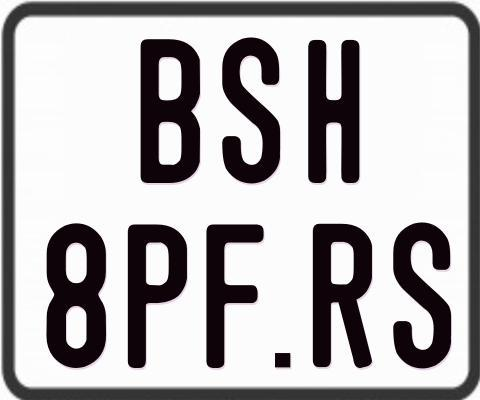8: (46, 223, 108, 374)
B: (140, 39, 201, 187)
F: (205, 222, 264, 367)
H: (308, 40, 363, 188)
P: (127, 224, 191, 368)
R: (313, 221, 375, 367)
S: (219, 34, 282, 185), (392, 222, 452, 374)
